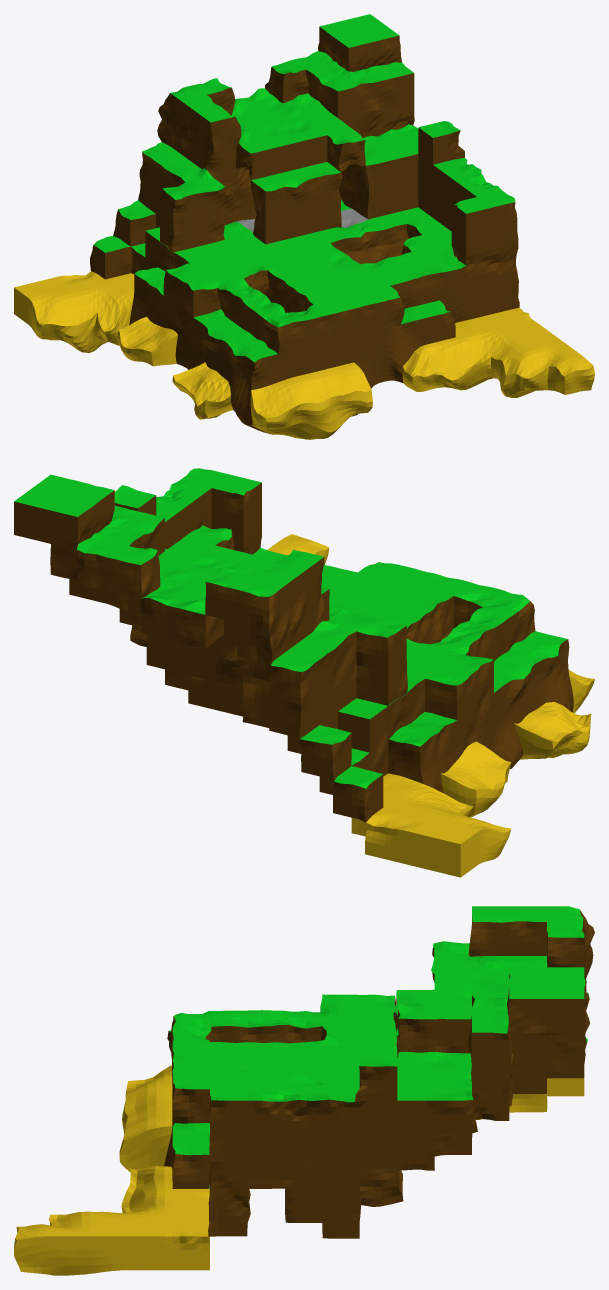
File: _sland_v2.fbx
3 views of the same model, one above another, from view 1: azimuth 30°, elevation 25°; view 2: azimuth 150°, elevation 25°; view 3: azimuth 270°, elevation 25° (orthographic). The views are drawn at different scales.
Visible parts, largest first — view 1: Cloner_1; view 2: Cloner_1; view 3: Cloner_1.
Boxes of the visible parts, x1,y1,x2,y2 form: Cloner_1: (14,14,594,439); Cloner_1: (14,468,594,877); Cloner_1: (14,906,594,1275).
Size of the model in its own units: 289 by 182 by 310.
